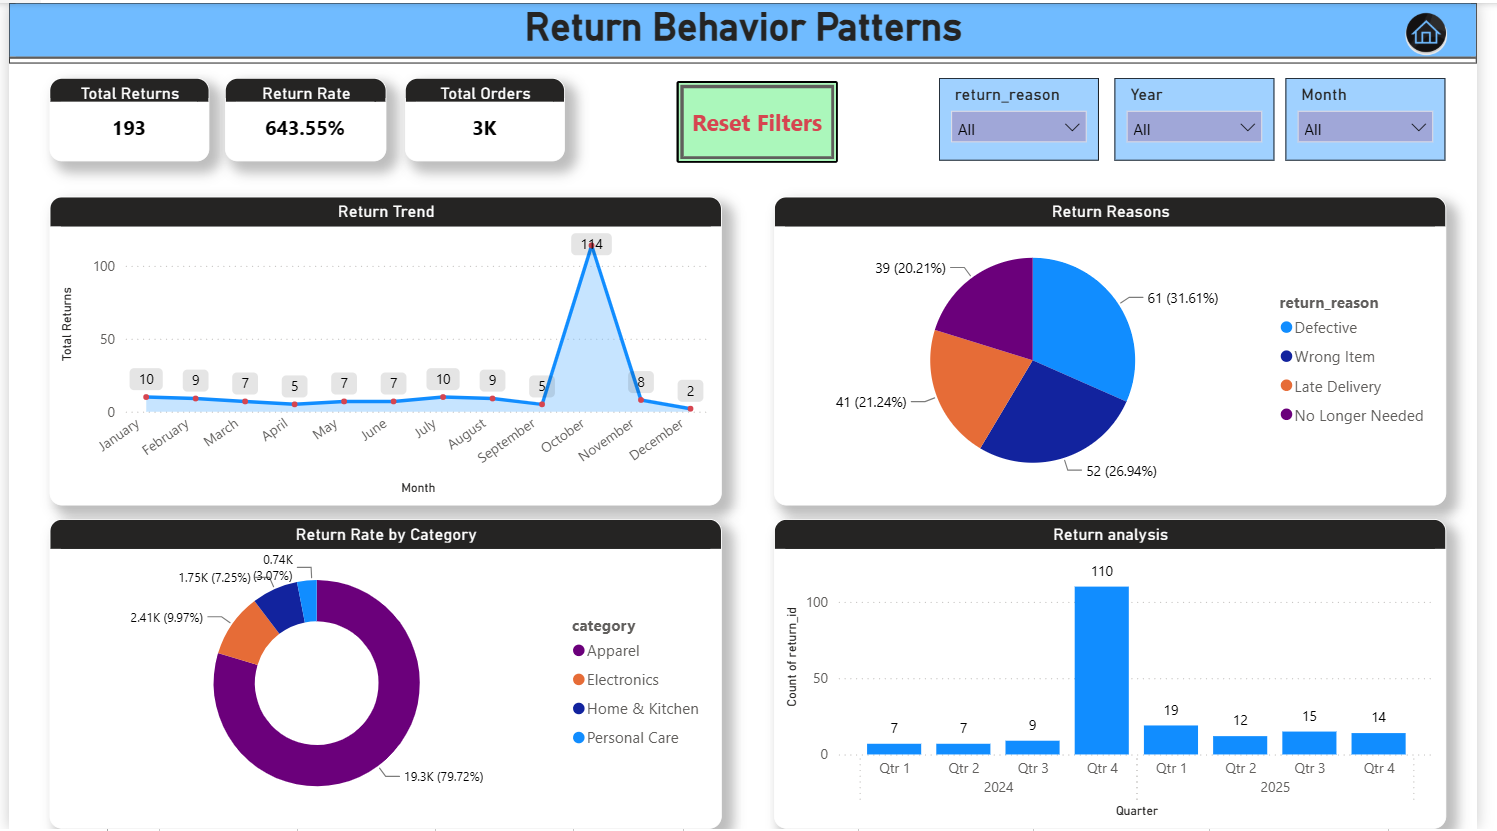

The page's visual inventory and layout, read from the dashboard file:
{"tool":"powerbi","page":{"name":"DASHBOARD4","canvas":[1280,720],"ordinal":9},"visuals":[{"type":"textbox","title":"Return Behavior Patterns","box":[0,0,1279.4,52.9],"z":0},{"type":"cardVisual","title":"Total Returns","fields":{"Data":["DateTable.Total Returns"]},"box":[34.8,65.1,139.3,72.7],"z":1000},{"type":"cardVisual","title":"Return Rate ","fields":{"Data":["DateTable.Return Rate %"]},"box":[187.8,65.1,140.8,72.7],"z":2000},{"type":"cardVisual","title":"Total Orders","fields":{"Data":["DateTable.Total Orders"]},"box":[345.2,65.1,139.3,72.7],"z":3000},{"type":"slicer","fields":{"Values":["cleaned_returns.return_date.Variation.Date Hierarchy.Month"]},"box":[1112.9,65.1,139.3,72],"z":4000},{"type":"slicer","fields":{"Values":["cleaned_returns.return_reason"]},"box":[810.1,65.1,139.3,72],"z":5000},{"type":"slicer","fields":{"Values":["cleaned_returns.return_date.Variation.Date Hierarchy.Year"]},"box":[963,65.1,139.3,72],"z":6000},{"type":"lineChart","title":"Return Trend","fields":{"Y":["DateTable.Total Returns"],"Category":["cleaned_returns.return_date.Variation.Date Hierarchy.Month"]},"box":[34.8,168.1,586,269.5],"z":7000},{"type":"pieChart","title":"Return Reasons","fields":{"Category":["cleaned_returns.return_reason"],"Y":["CountNonNull(cleaned_returns.return_id)"]},"box":[666.3,168.1,586,269.5],"z":8000},{"type":"columnChart","title":" Return analysis","fields":{"Y":["CountNonNull(cleaned_returns.return_id)"],"Category":["cleaned_returns.return_date.Variation.Date Hierarchy.Year","cleaned_returns.return_date.Variation.Date Hierarchy.Quarter"]},"box":[667.1,449.8,585.8,270.2],"z":9000},{"type":"actionButton","title":"Reset Filters","box":[581.6,67.4,140.6,71.3],"z":10000},{"type":"image","box":[1203.4,1.4,64.7,49.6],"z":11000},{"type":"donutChart","title":"Return Rate by Category","fields":{"Category":["cleaned_products.category"],"Y":["DateTable.Return Rate %"]},"box":[35.9,449.8,585.8,270.2],"z":12000}]}

Visuals, with their boxes in screenshot pixels (x1, y1, x2, y2), scaled from the page's 1280x720 canvas onto the 1497x831 screenshot:
"Return Behavior Patterns" textbox: [0,0,1496,61]
"Total Returns" cardVisual: [41,75,204,159]
"Return Rate " cardVisual: [220,75,384,159]
"Total Orders" cardVisual: [404,75,567,159]
slicer - cleaned_returns.return_date.Variation.Date Hierarchy.Month: [1302,75,1464,158]
slicer - cleaned_returns.return_reason: [947,75,1110,158]
slicer - cleaned_returns.return_date.Variation.Date Hierarchy.Year: [1126,75,1289,158]
"Return Trend" lineChart: [41,194,726,505]
"Return Reasons" pieChart: [779,194,1465,505]
" Return analysis" columnChart: [780,519,1465,830]
"Reset Filters" actionButton: [680,78,845,160]
image: [1407,2,1483,59]
"Return Rate by Category" donutChart: [42,519,727,830]
